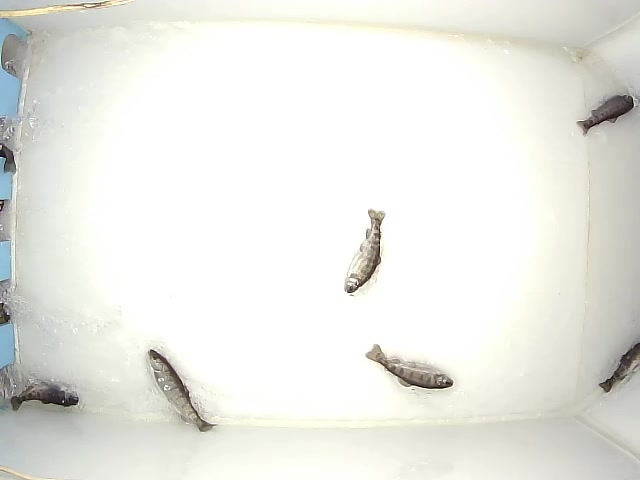fish: (143, 347, 219, 434), (364, 343, 454, 391), (342, 208, 387, 296), (575, 94, 635, 136), (10, 379, 79, 413), (595, 343, 640, 395)
